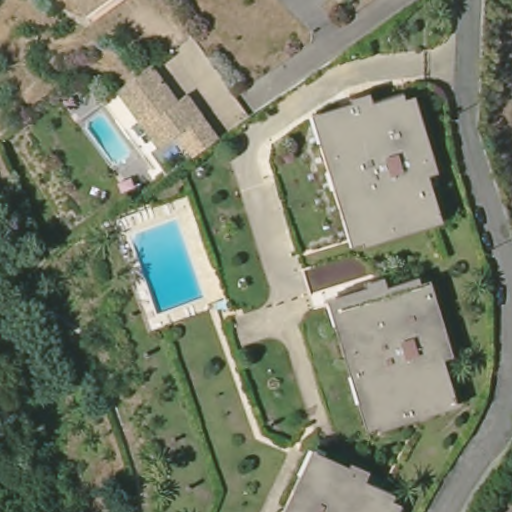pool: (135, 218, 204, 318), (83, 114, 131, 166)
